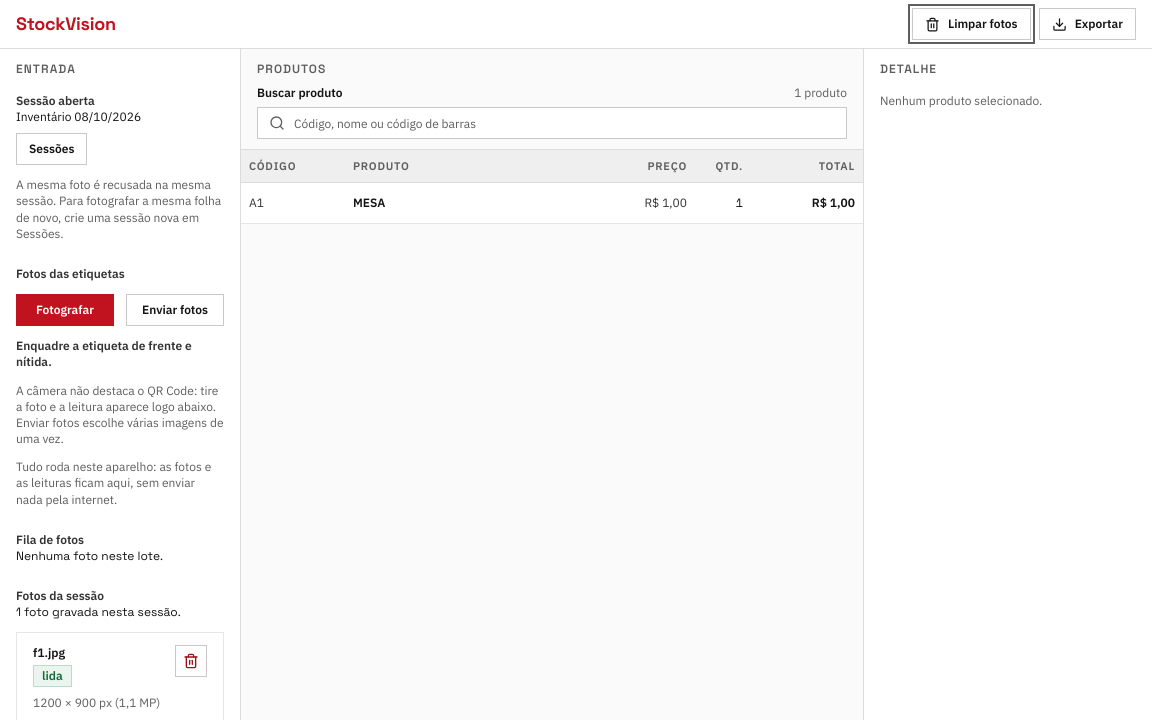
App, limpeza das fotos › cancelar mantém as fotos e devolve o foco ao gatilho
Click the button "Limpar fotos" at (971, 24), box x1=912 y1=8 x2=1031 y2=40
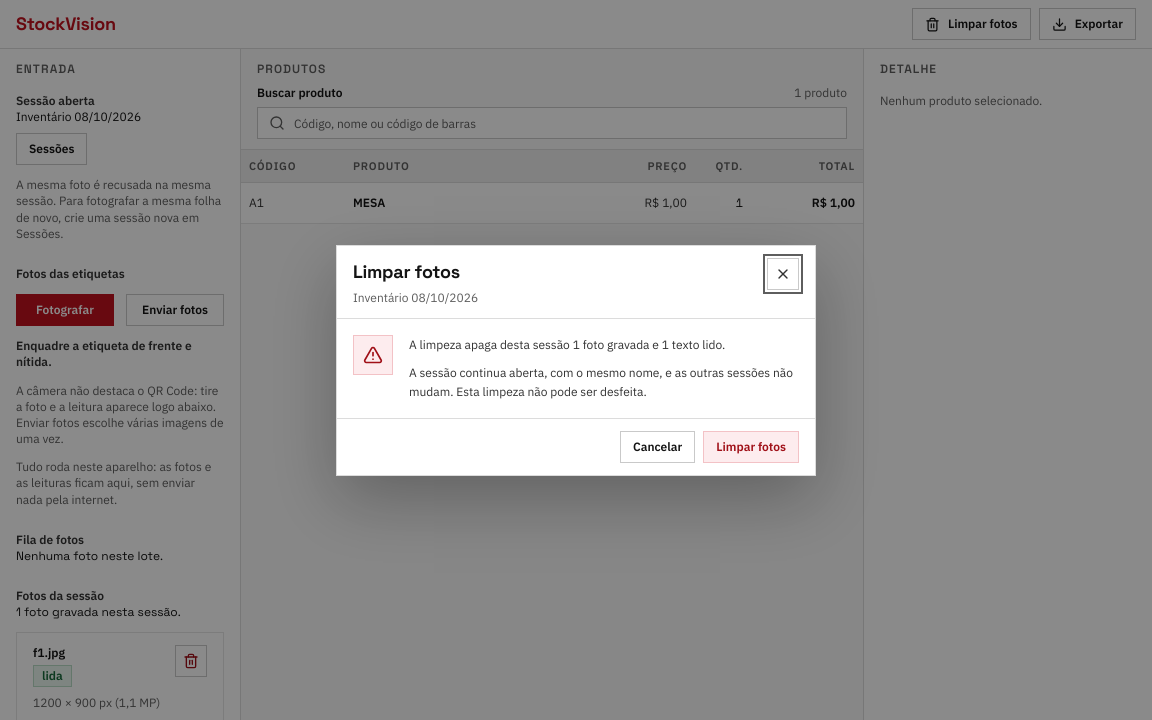
Click the button "Cancelar" at (658, 446), box x1=620 y1=430 x2=695 y2=462
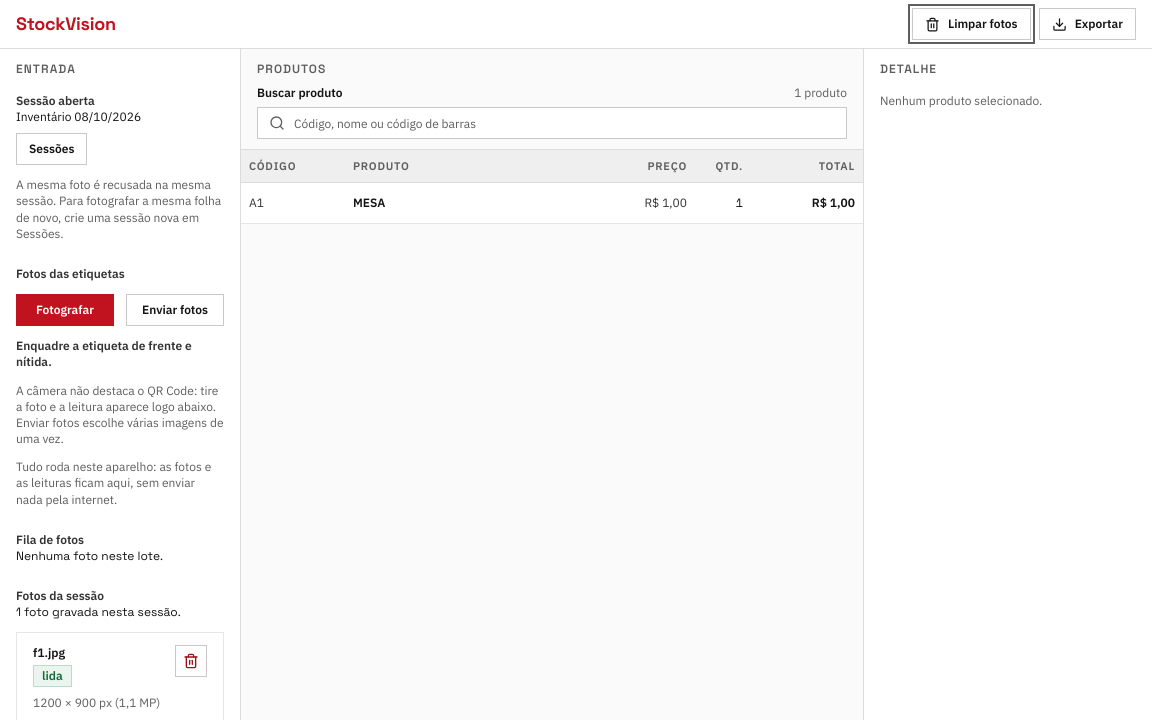
Check: the dialog is gone
